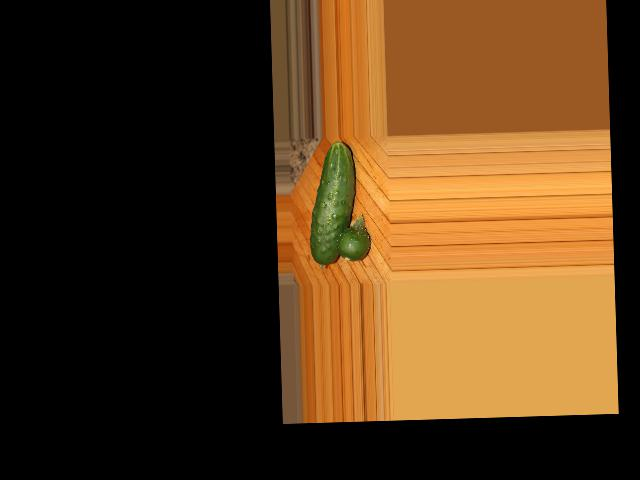cucumber: (307, 140, 358, 265)
